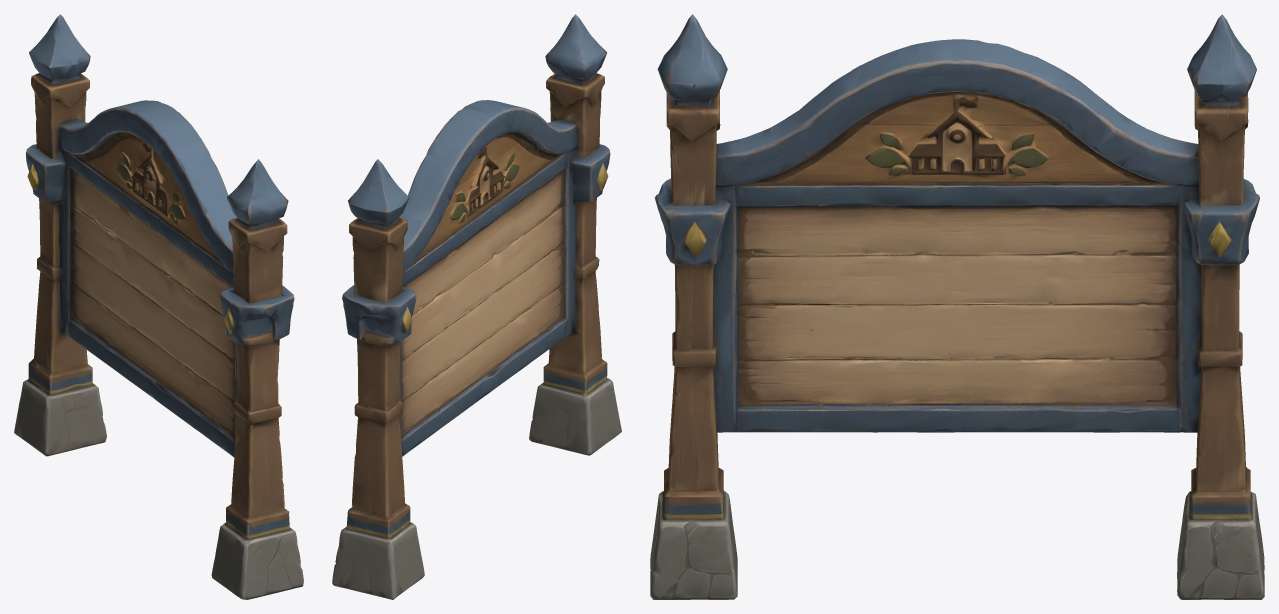
File: cartel_esc.glb
The picture shows the model from 3 angles, left to right: view 1: azimuth 30°, elevation 25°; view 2: azimuth 150°, elevation 25°; view 3: azimuth 270°, elevation 25°; orthographic projection. The views are drawn at different scales.
Parts seen in each view (by area): view 1: tripo_node_bee28dfa-297f-4634-8396-1f0ada6203f0; view 2: tripo_node_bee28dfa-297f-4634-8396-1f0ada6203f0; view 3: tripo_node_bee28dfa-297f-4634-8396-1f0ada6203f0.
Part boxes in pixels (left/top/right/bottom): tripo_node_bee28dfa-297f-4634-8396-1f0ada6203f0: left=14, top=14, right=303, bottom=599; tripo_node_bee28dfa-297f-4634-8396-1f0ada6203f0: left=332, top=14, right=621, bottom=599; tripo_node_bee28dfa-297f-4634-8396-1f0ada6203f0: left=650, top=14, right=1264, bottom=599.
Size of the model in its own units: 0.1564 by 1 by 0.9827.
Materials: 1 (1 with a texture image).
